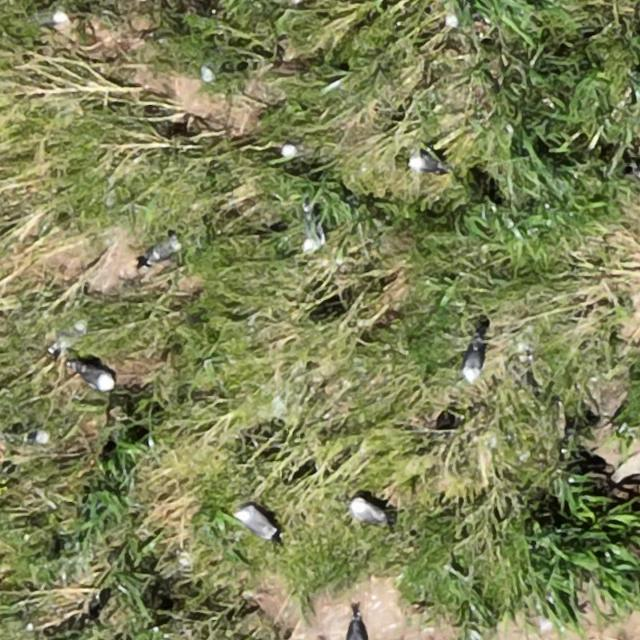umineko: (238, 508, 276, 537), (300, 206, 320, 254), (78, 366, 114, 390), (8, 427, 51, 446), (351, 500, 384, 524), (266, 140, 300, 162), (202, 52, 224, 83), (148, 237, 177, 260), (463, 344, 481, 380), (408, 155, 440, 173), (36, 10, 73, 24), (346, 619, 366, 640)
